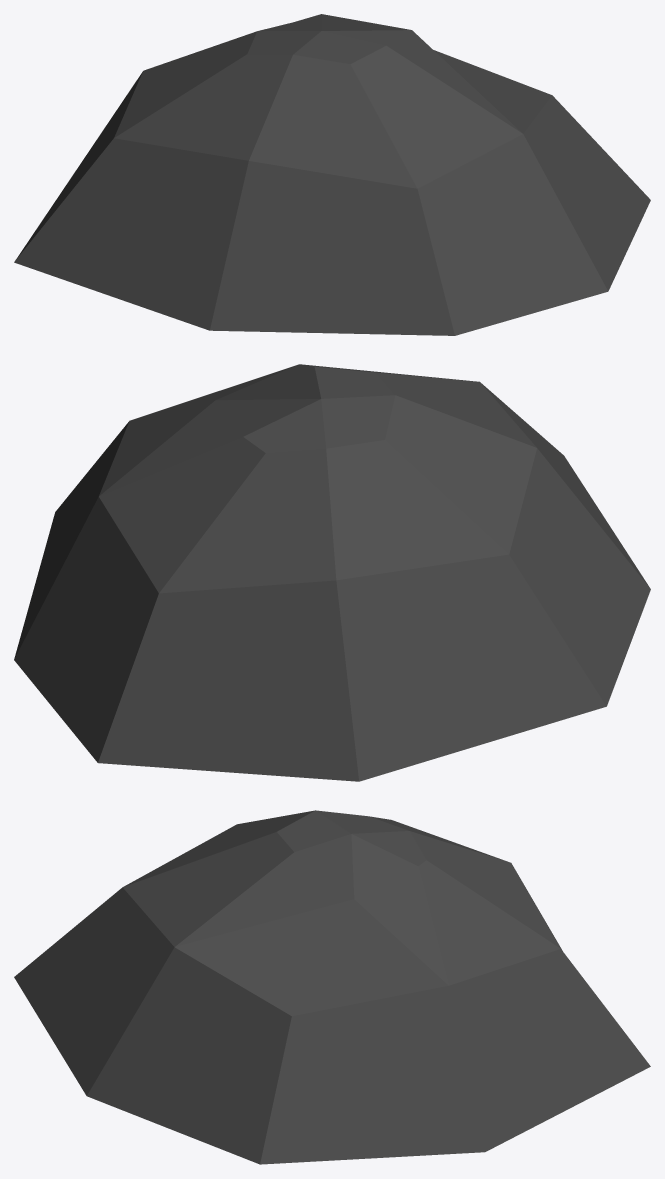
File: LargeRockFlat.fbx
3 views of the same model, one above another, from view 1: azimuth 30°, elevation 25°; view 2: azimuth 150°, elevation 25°; view 3: azimuth 270°, elevation 25° (orthographic). The views are drawn at different scales.
Parts seen in each view (by area): view 1: LargeRockFlat; view 2: LargeRockFlat; view 3: LargeRockFlat.
Part boxes in pixels (bbox=[...]): LargeRockFlat: bbox=[14, 14, 650, 335]; LargeRockFlat: bbox=[14, 364, 650, 781]; LargeRockFlat: bbox=[14, 810, 650, 1164].
Bounding box in the file's own units: 1.1 × 0.4298 × 1.11.
1 material, 1 textured.
